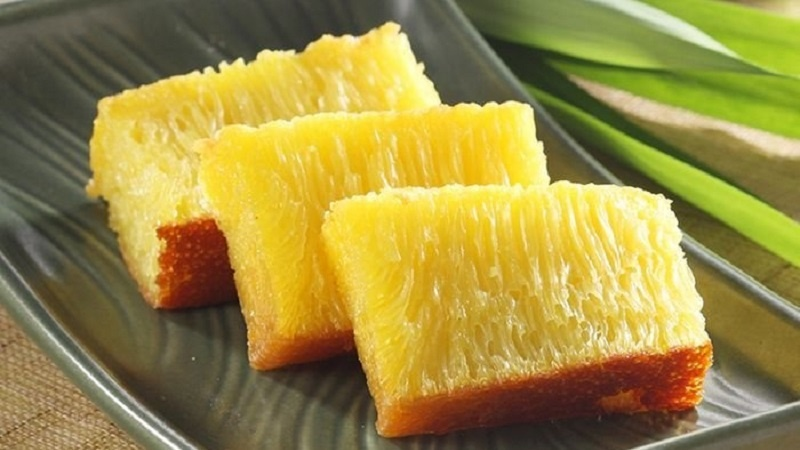bika_ambon: (303, 169, 736, 434), (191, 104, 571, 367), (93, 34, 455, 293)
